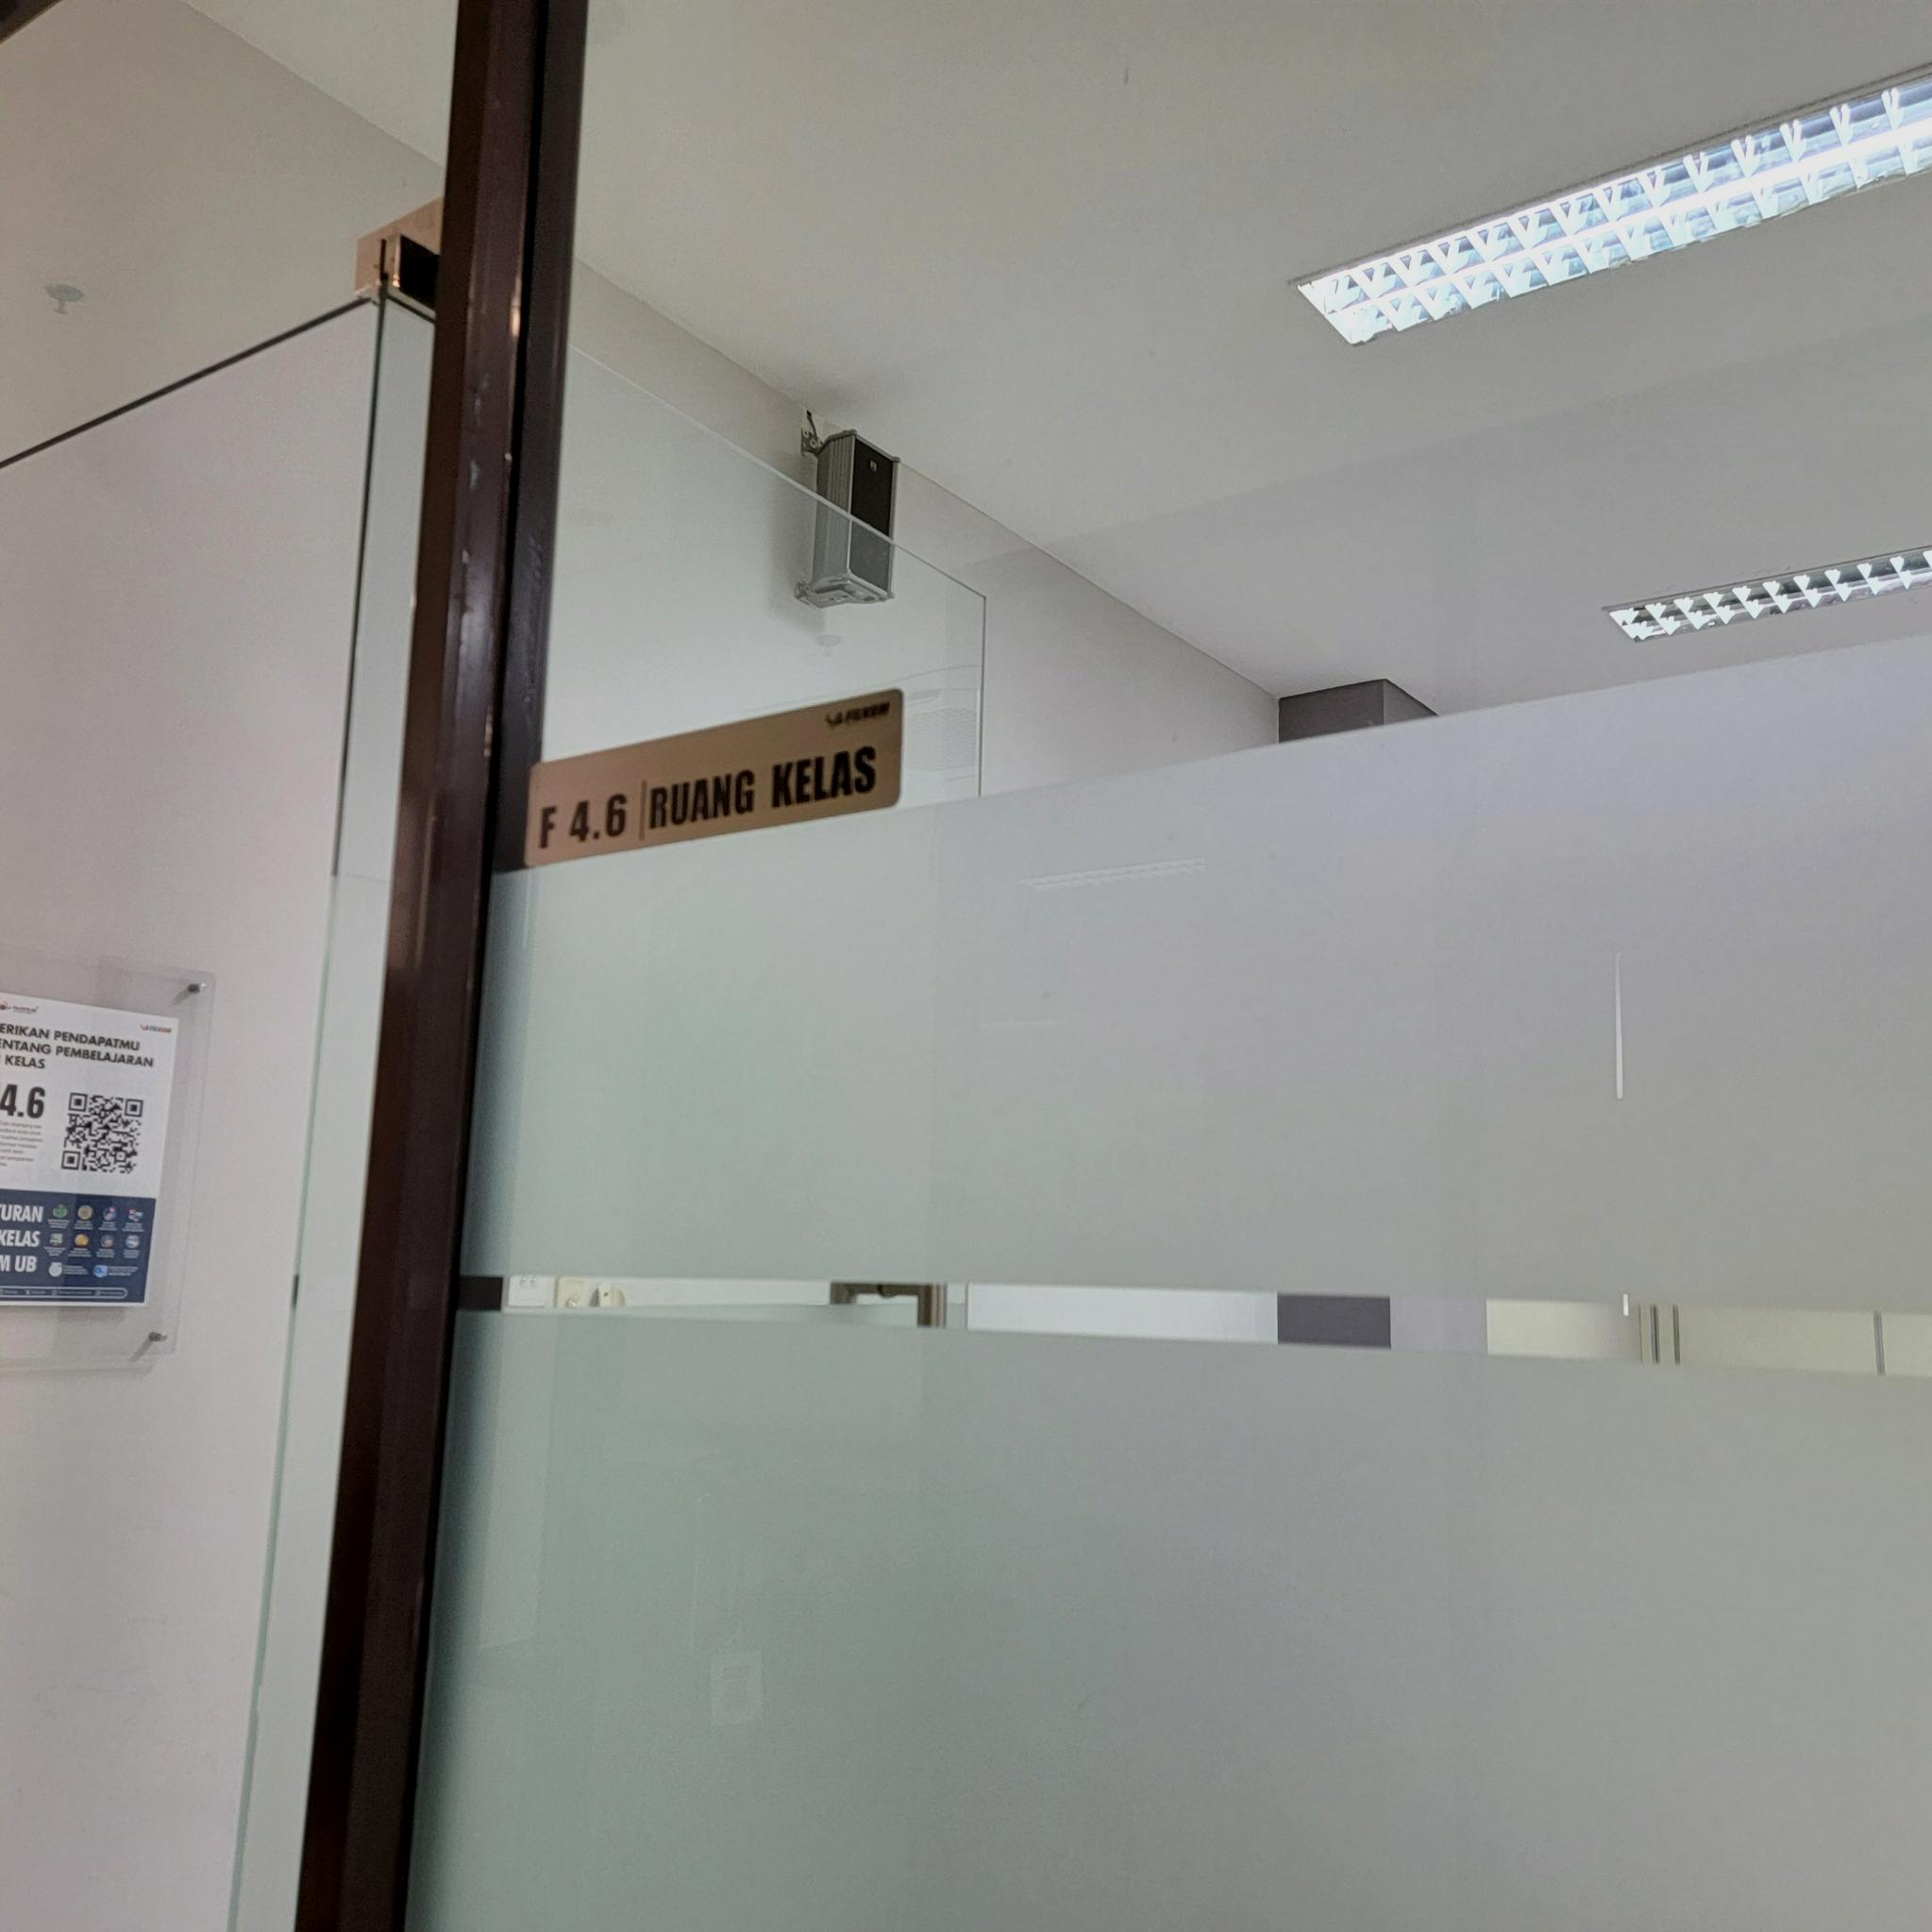plate: (520, 688, 904, 870)
